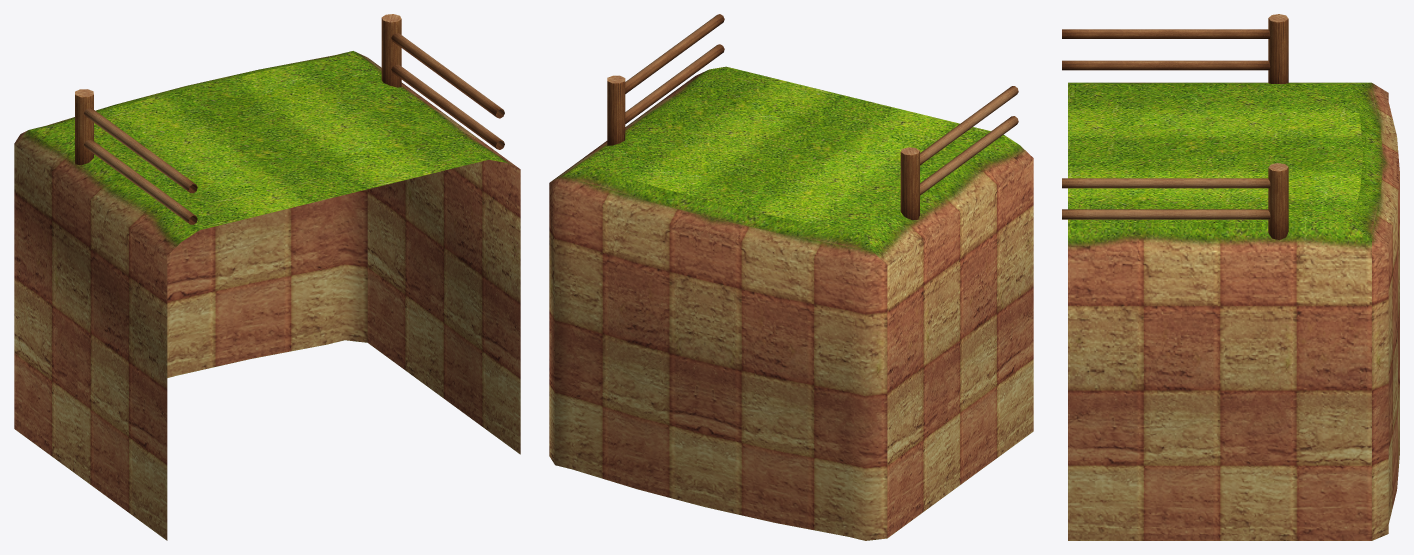
Rendered from Ground03.FBX.
The picture shows the model from 3 angles, left to right: view 1: azimuth 30°, elevation 25°; view 2: azimuth 150°, elevation 25°; view 3: azimuth 270°, elevation 25°; orthographic projection. The views are drawn at different scales.
Parts seen in each view (by area): view 1: Ground, Fence; view 2: Ground, Fence; view 3: Ground, Fence.
Part boxes in pixels (x1=…): Ground: x1=14, y1=51, x2=520, y2=540; Fence: x1=75, y1=14, x2=504, y2=224; Ground: x1=549, y1=66, x2=1033, y2=540; Fence: x1=607, y1=14, x2=1018, y2=220; Ground: x1=1068, y1=82, x2=1399, y2=540; Fence: x1=1062, y1=14, x2=1288, y2=240.
Size of the model in its own units: 4.65 by 4.59 by 3.88.
